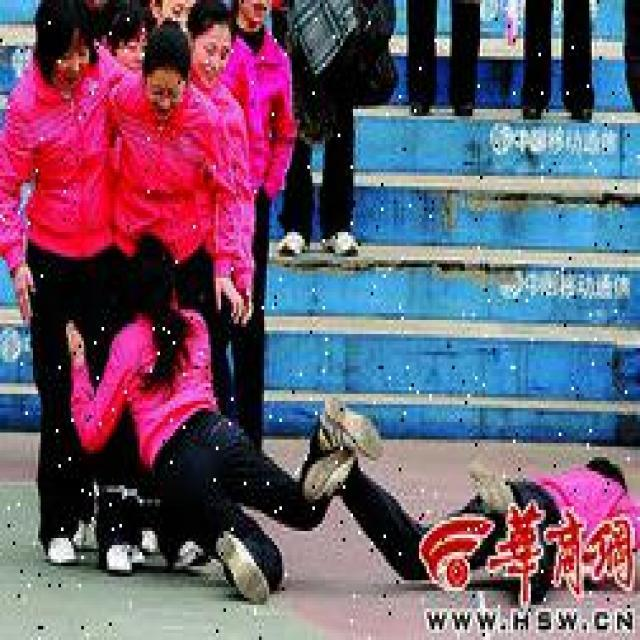fall: (325, 436, 635, 584)
